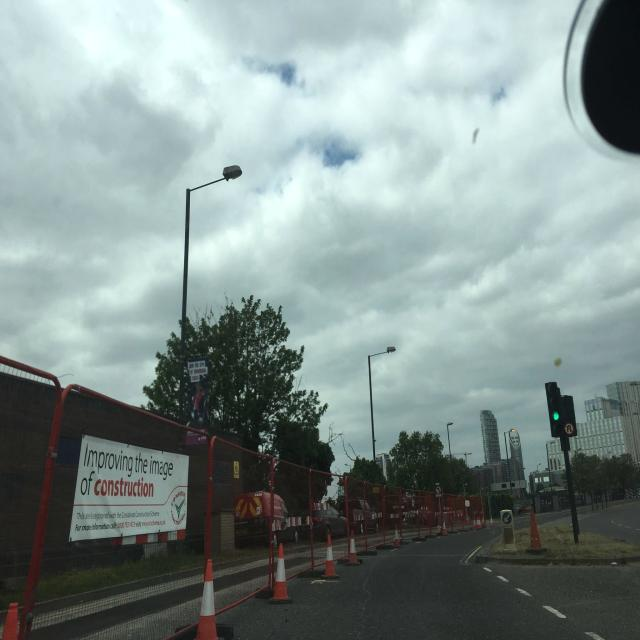car: (234, 490, 300, 549), (302, 507, 350, 541), (339, 497, 379, 534), (501, 509, 513, 523)
